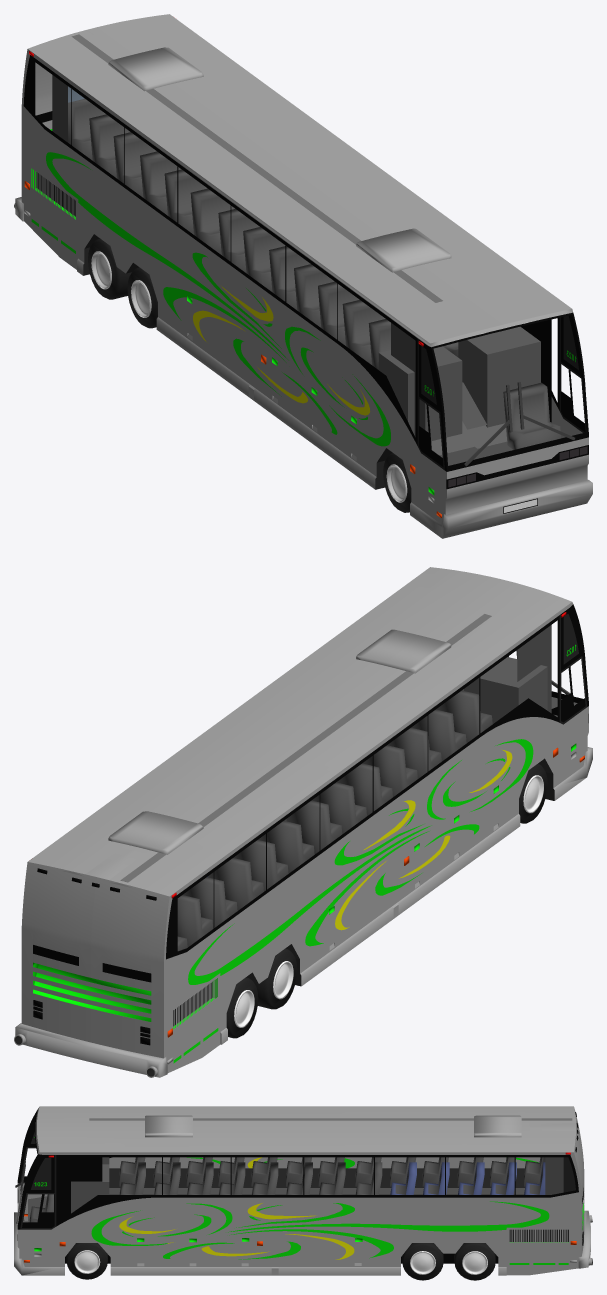
Rendered from coachbus.glb.
3 views of the same model, one above another, from view 1: azimuth 30°, elevation 25°; view 2: azimuth 150°, elevation 25°; view 3: azimuth 270°, elevation 25° (orthographic). The views are drawn at different scales.
Parts seen in each view (by area): view 1: instance_4, instance_3, Box (×3), Box002, group_6, group_7, group_5; view 2: instance_4, instance_3, Box, Box002, group_7, group_6, group_5; view 3: instance_3, instance_4, Box (×2), group_2, group_4, group_3, Box002.
Boxes of the visible parts, x1,y1,x2,y2 form: instance_4: (14,27,520,538); instance_3: (52,14,592,520); Box (×3): (378,326,540,455); Box002: (71,34,442,302); group_6: (88,238,131,299); group_7: (127,267,157,328); group_5: (383,452,411,512); instance_4: (85,580,592,1077); instance_3: (14,567,551,1060); Box: (464,657,547,723); Box002: (120,614,491,882); group_7: (254,948,297,1009); group_6: (226,977,258,1038); group_5: (519,763,547,823); instance_3: (14,1125,592,1275); instance_4: (14,1106,592,1235); Box (×2): (71,1164,525,1213); group_2: (454,1243,495,1280); group_4: (402,1243,443,1280); group_3: (66,1243,107,1279); Box002: (89,1118,572,1120).
Bounding box in the file's own units: 4.58 × 6.1 × 23.92.
